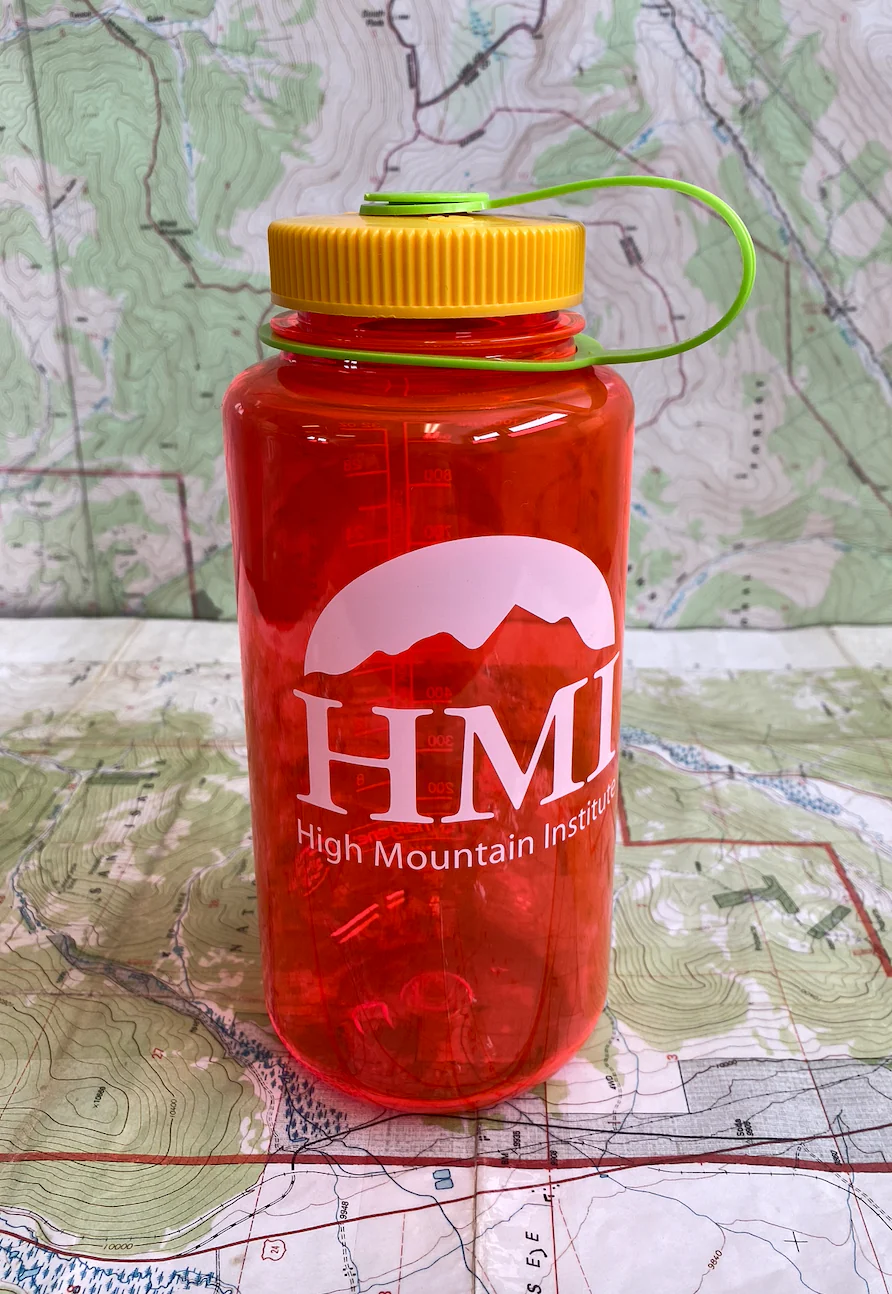bottle: (219, 173, 757, 1118)
